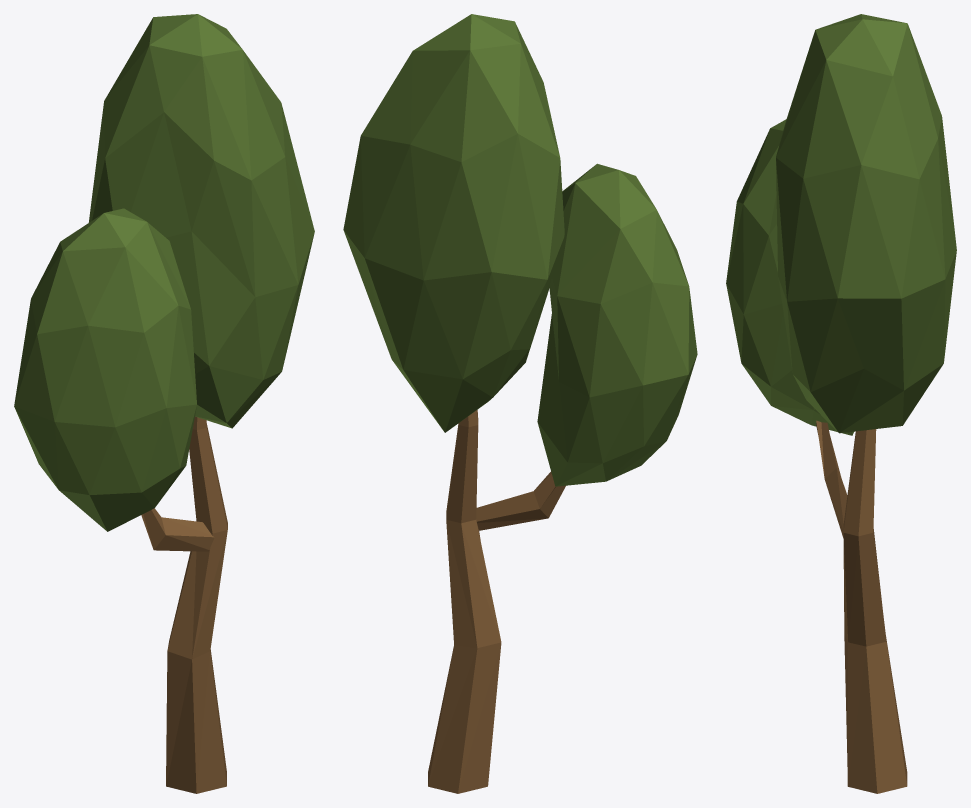
File: Tree_3_3.FBX
3 renders of one model, left to right at view 1: azimuth 30°, elevation 25°; view 2: azimuth 150°, elevation 25°; view 3: azimuth 270°, elevation 25°, orthographic.
Visible parts, largest first — view 1: Tree_3_3; view 2: Tree_3_3; view 3: Tree_3_3.
Part boxes in pixels (box(x1,y1,x2,y2)): Tree_3_3: box(14, 14, 314, 793); Tree_3_3: box(343, 14, 697, 793); Tree_3_3: box(726, 14, 956, 793).
Bounding box in the file's own units: 115 × 271 × 74.94.
1 material, 1 textured.
